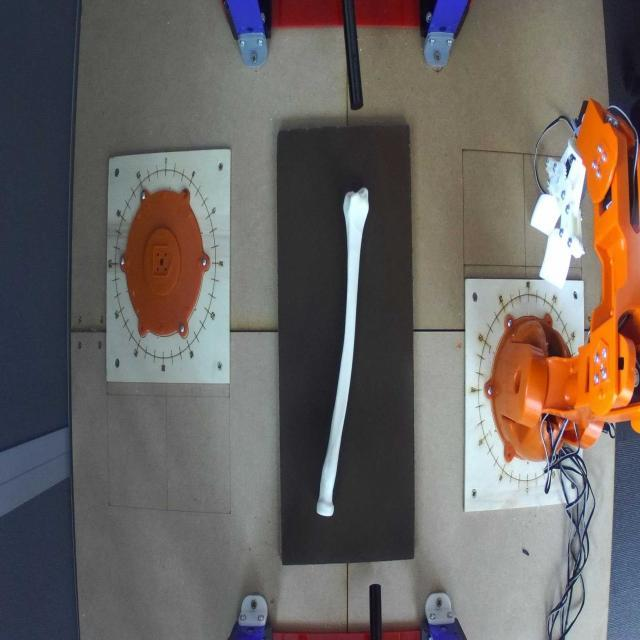bone: (312, 184, 372, 522)
